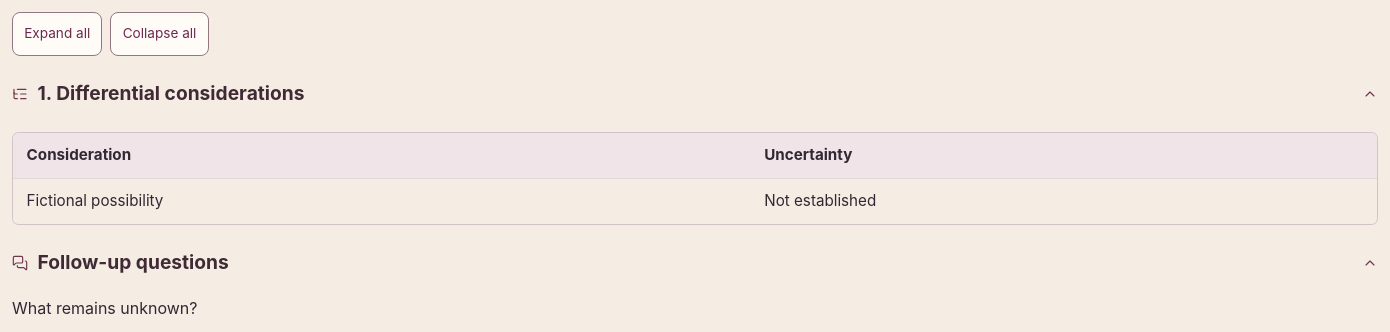
Scenario: groups the synthetic markdownHeading title, differential table, icon and chevron together
Expected: the icon with class "lucide-list-tree" is shown, 12,86 -> 28,102
Expected: the 1st icon with class "discussionSectionChevron" is shown, 1362,86 -> 1378,102
Click the heading "1. Differential considerations" at (171, 93), box 12,81 -> 1378,105
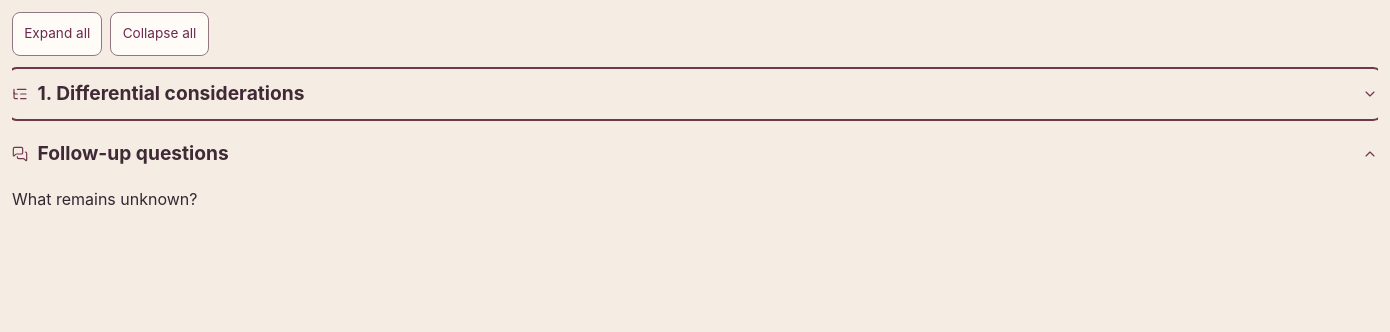
Expected: the text "What remains unknown?" is shown, 12,189 -> 198,209
Expected: the table is gone
Press Enter
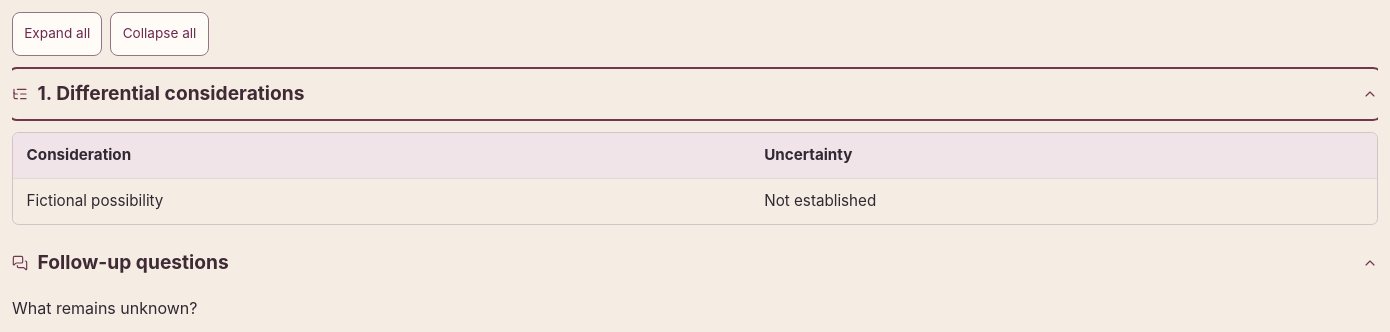
Expected: the table is shown, 13,133 -> 1377,224
